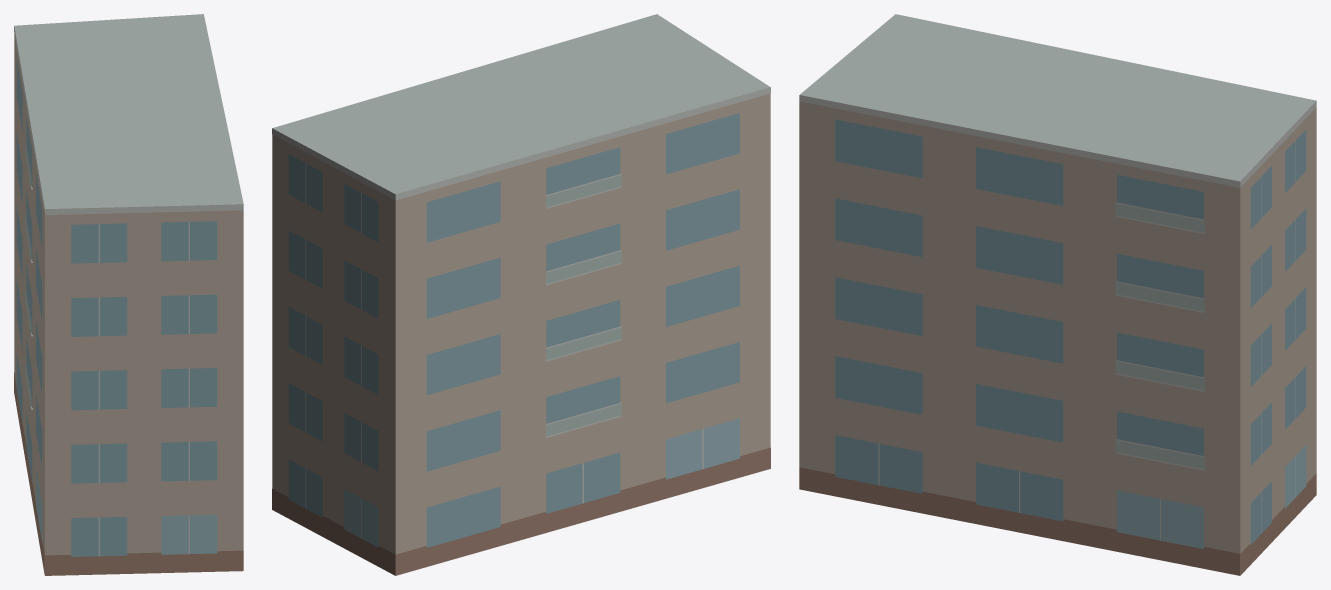
File: survey-upis-32997276.glb
3 views of the same model, side by side, from view 1: azimuth 30°, elevation 25°; view 2: azimuth 150°, elevation 25°; view 3: azimuth 270°, elevation 25° (orthographic). The views are drawn at different scales.
Visible parts, largest first — view 1: survey-upis-32997276.tmp; view 2: survey-upis-32997276.tmp; view 3: survey-upis-32997276.tmp.
Boxes of the visible parts, x1=… form: survey-upis-32997276.tmp: x1=14, y1=14, x2=243, y2=575; survey-upis-32997276.tmp: x1=272, y1=14, x2=770, y2=575; survey-upis-32997276.tmp: x1=799, y1=14, x2=1316, y2=575.
Bounding box in the file's own units: 13.67 × 15 × 17.83.
